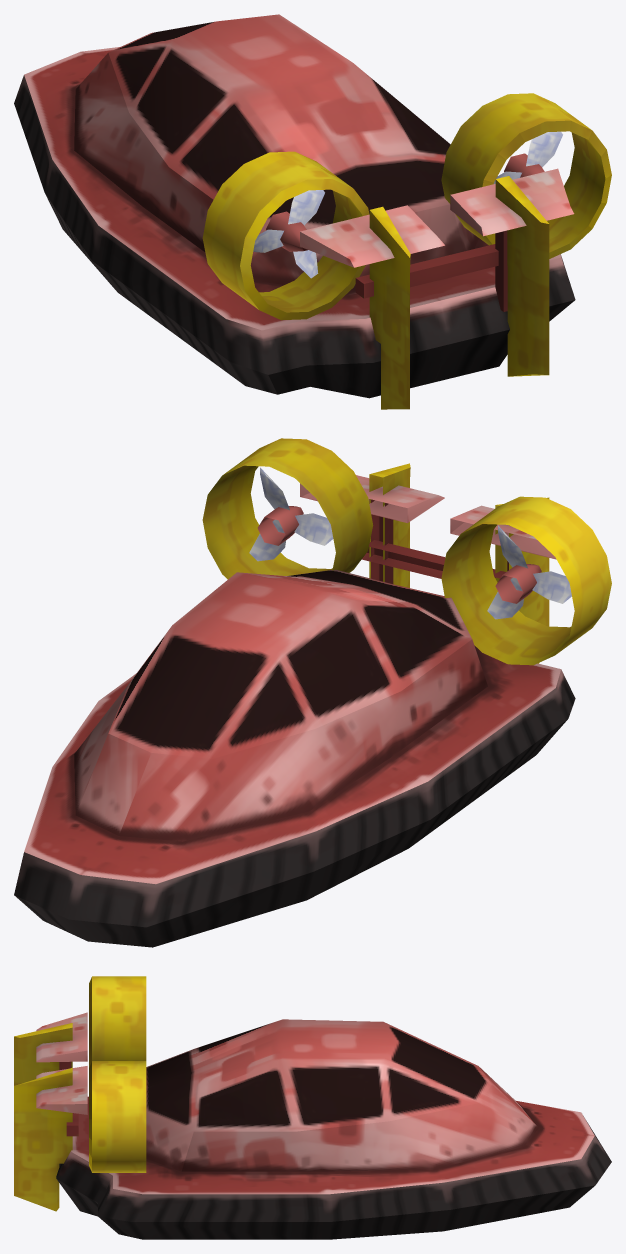
Rendered from Boat_player.FBX.
The picture shows the model from 3 angles, top to bottom: view 1: azimuth 30°, elevation 25°; view 2: azimuth 150°, elevation 25°; view 3: azimuth 270°, elevation 25°; orthographic projection. The views are drawn at different scales.
Parts seen in each view (by area): view 1: Boat_Player, blade_02, blade_01; view 2: Boat_Player, blade_02, blade_01; view 3: Boat_Player.
Boxes of the visible parts, x1,y1,x2,y2 form: Boat_Player: [14, 14, 611, 409]; blade_02: [253, 190, 324, 278]; blade_01: [493, 131, 562, 183]; Boat_Player: [14, 438, 611, 947]; blade_02: [487, 525, 571, 619]; blade_01: [249, 467, 333, 561]; Boat_Player: [14, 976, 611, 1239].
Bounding box in the file's own units: 1.36 × 0.7901 × 2.61.
